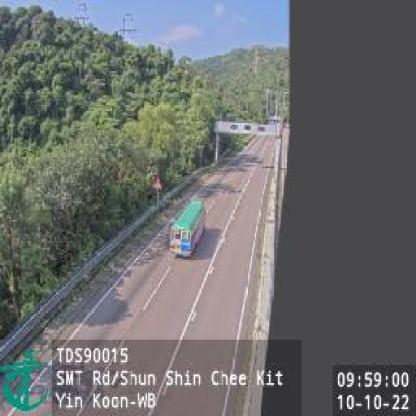Minibus: (171, 200, 205, 257)
